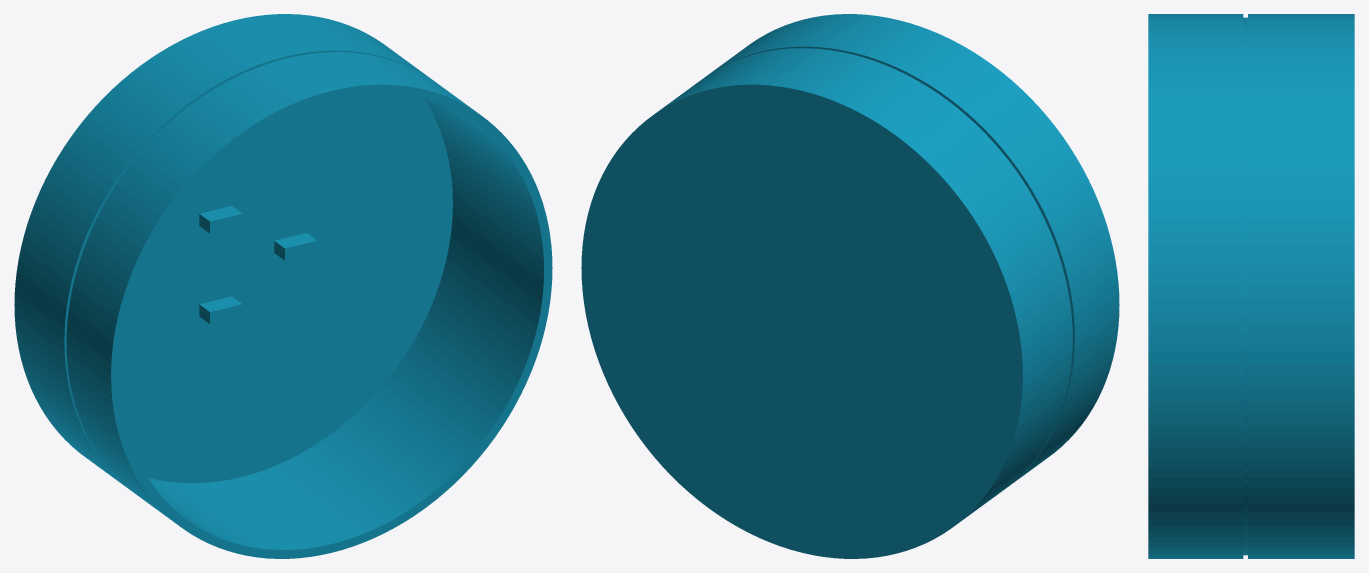
Rendered from agua_bebedero.glb.
3 views of the same model, side by side, from view 1: azimuth 30°, elevation 25°; view 2: azimuth 150°, elevation 25°; view 3: azimuth 270°, elevation 25° (orthographic). The views are drawn at different scales.
Parts seen in each view (by area): view 1: world; view 2: world; view 3: world.
Boxes of the visible parts, left/top/right/bottom form: world: left=14, top=14, right=552, bottom=558; world: left=581, top=14, right=1119, bottom=558; world: left=1148, top=14, right=1354, bottom=558.
Size of the model in its own units: 190 by 190 by 72.
